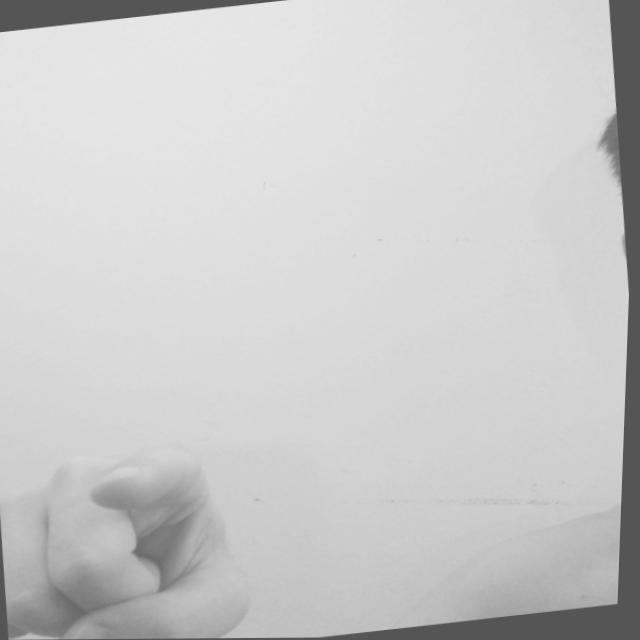Z: (0, 429, 278, 639)
